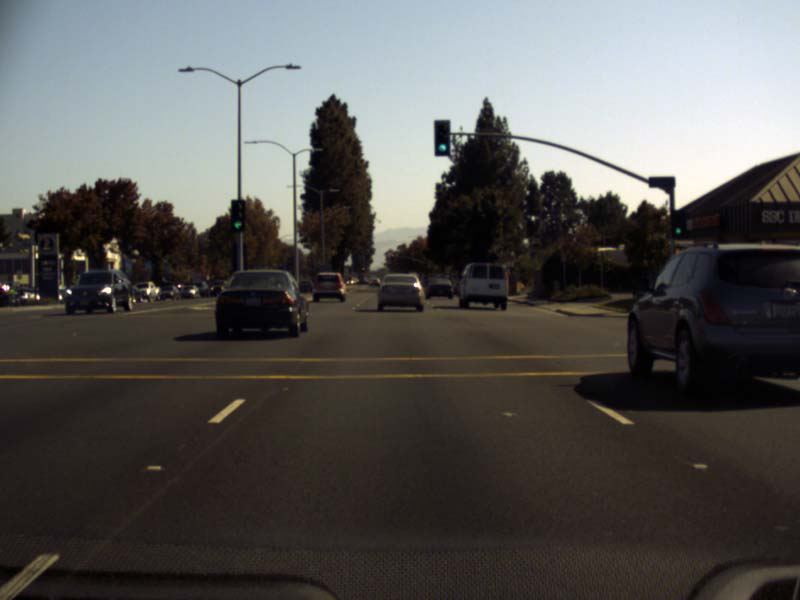Green: (434, 120, 449, 156), (230, 199, 245, 234), (672, 211, 685, 240)
